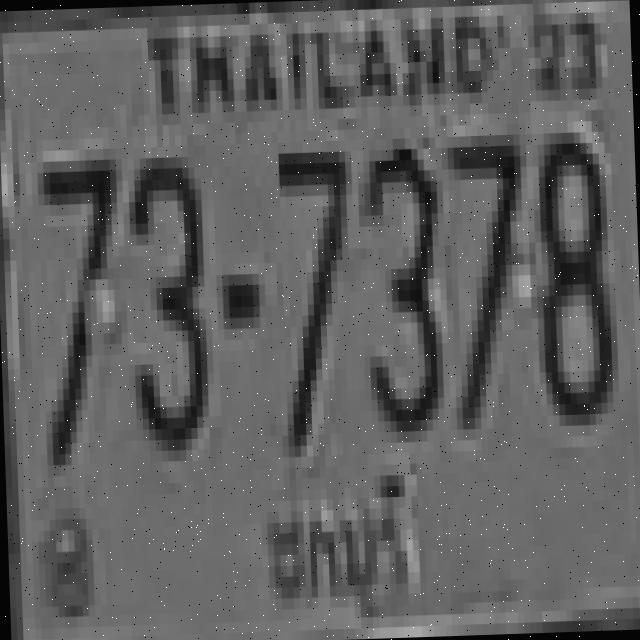3: (120, 146, 210, 452), (353, 137, 442, 433)
7: (36, 154, 120, 460), (272, 140, 354, 446), (443, 128, 526, 424)
8: (530, 120, 614, 415)
Chonburi: (252, 466, 423, 624)
